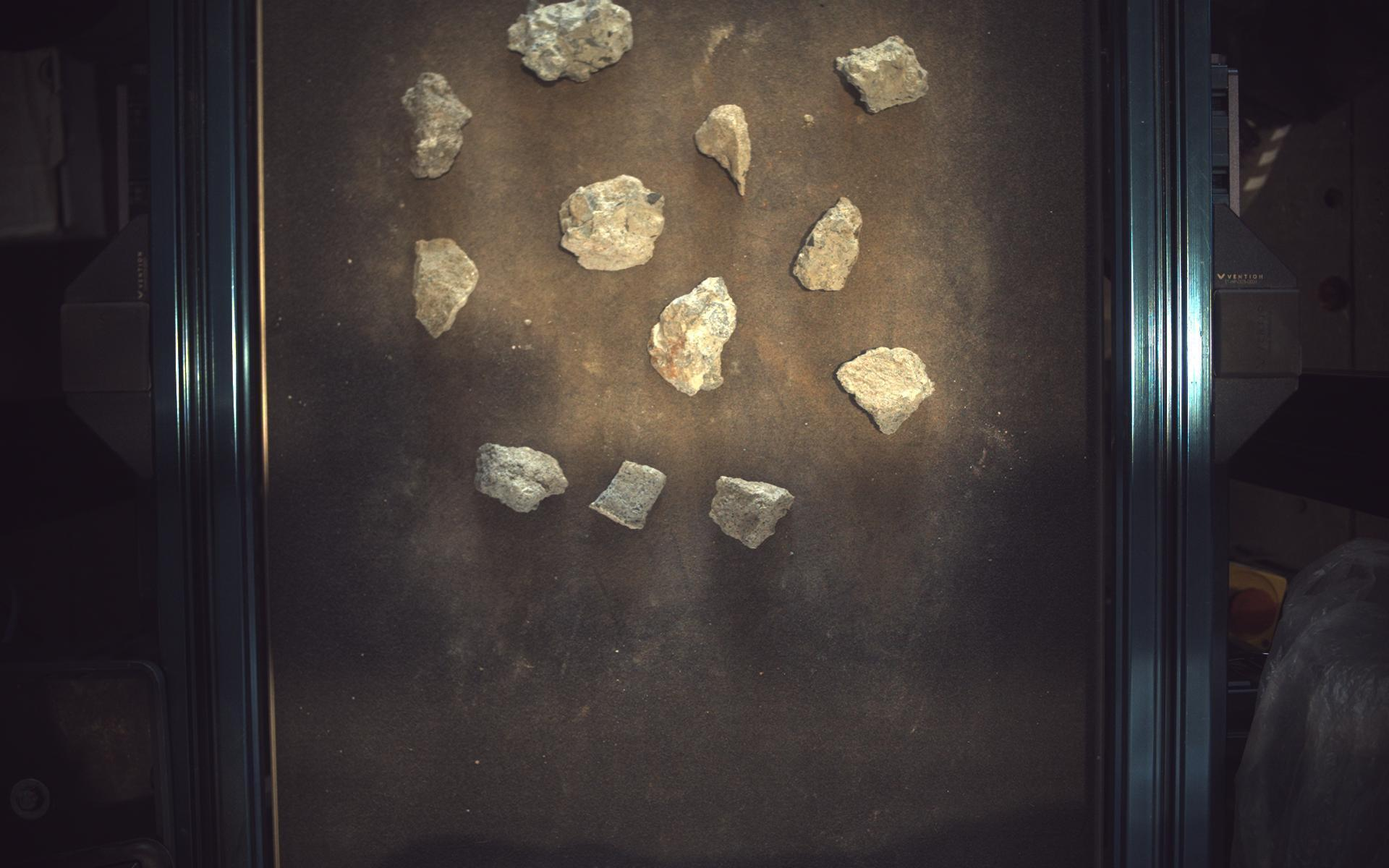concrete: (649, 276, 737, 396), (560, 174, 666, 271), (508, 1, 633, 81), (838, 346, 936, 435), (402, 71, 472, 177), (837, 34, 930, 112), (413, 237, 479, 338), (475, 443, 569, 513), (794, 196, 864, 290), (711, 477, 795, 550), (590, 461, 667, 530), (696, 103, 752, 195)
